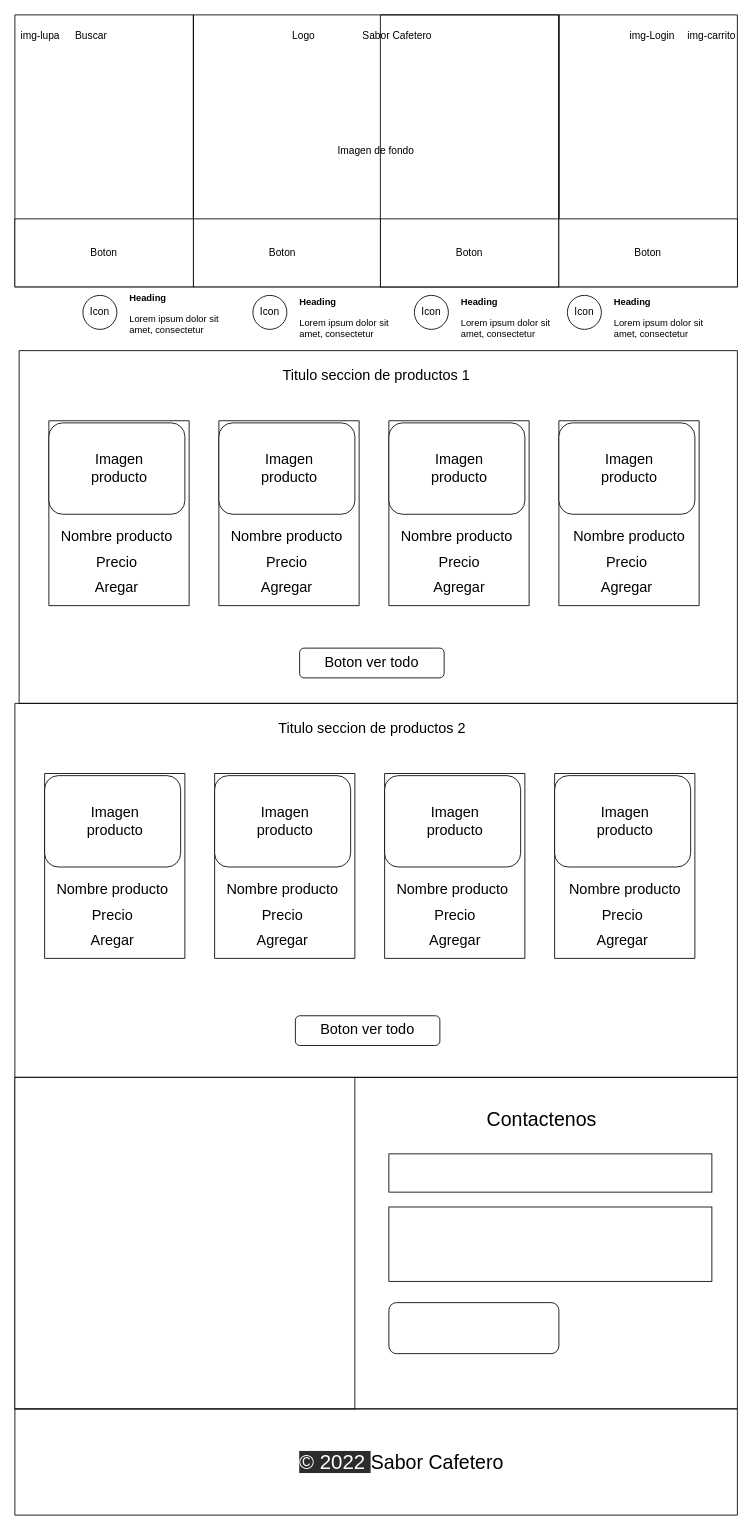
The diagram is 752 pixels wide and 1530 high, and some of its shapes have lost their labels. Here are the shapes that lost their labels. From the top down, the centre of each, then its label:
the point at 550,1172: Nombre
the point at 184,1243: Imagen decorativa
the point at 550,1243: Mensaje
the point at 473,1328: Enviar
